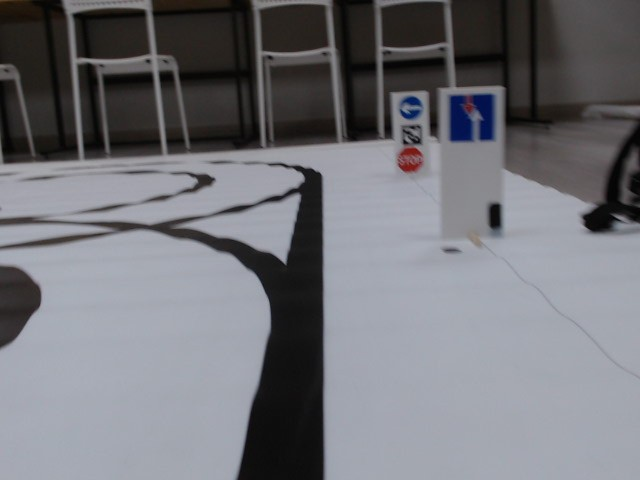Stop: (395, 147, 423, 172)
priority_movement: (444, 91, 497, 142)
